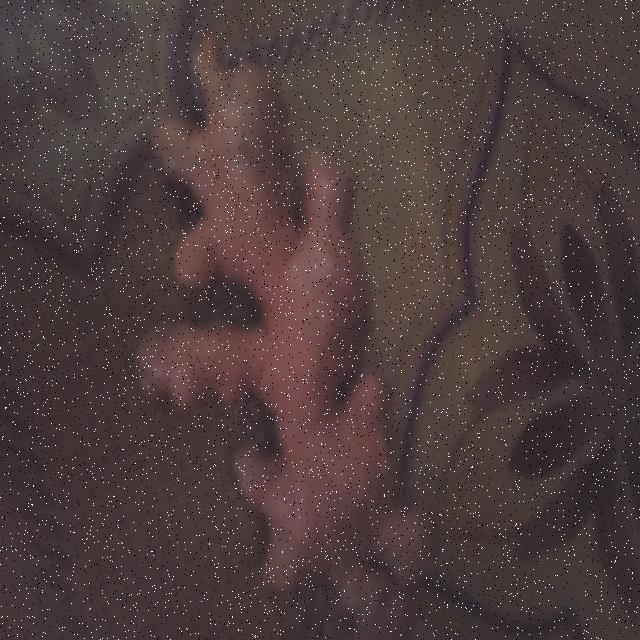ginger: (117, 21, 450, 624)
